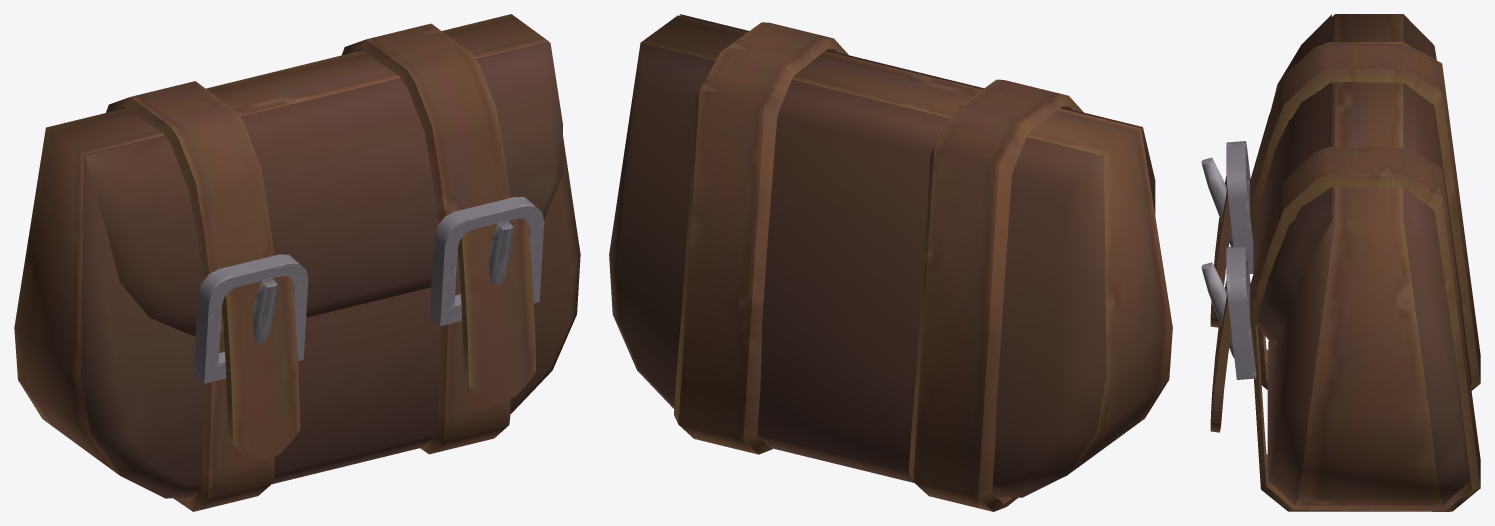
The model's file is bors.glb.
The picture shows the model from 3 angles, left to right: view 1: azimuth 30°, elevation 25°; view 2: azimuth 150°, elevation 25°; view 3: azimuth 270°, elevation 25°; orthographic projection. The views are drawn at different scales.
Visible parts, largest first — view 1: Pouch_Large; view 2: Pouch_Large; view 3: Pouch_Large.
Boxes of the visible parts, x1=… form: Pouch_Large: x1=14, y1=14, x2=580, y2=511; Pouch_Large: x1=609, y1=14, x2=1172, y2=511; Pouch_Large: x1=1201, y1=14, x2=1480, y2=511.
Bounding box in the file's own units: 0.2255 × 0.1591 × 0.1198.
Materials: 2 (2 with a texture image).
